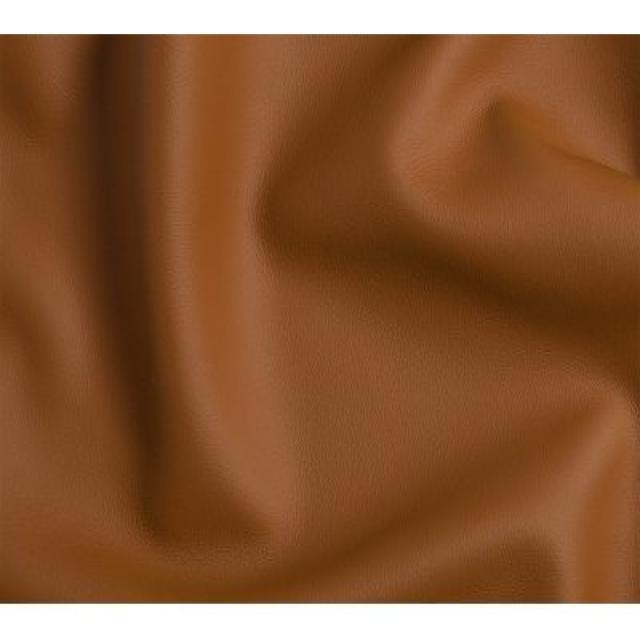Crease: (321, 52, 619, 288), (314, 416, 614, 597), (123, 46, 220, 359)
